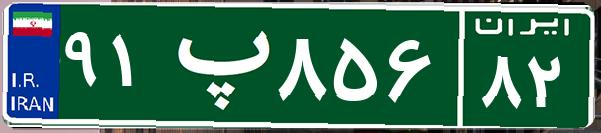1: (110, 28, 158, 105)
2: (525, 38, 570, 115)
5: (330, 28, 385, 110)
6: (385, 28, 445, 110)
8: (273, 28, 330, 110), (475, 38, 525, 113)
9: (57, 26, 110, 107)
پ: (158, 15, 273, 115)
